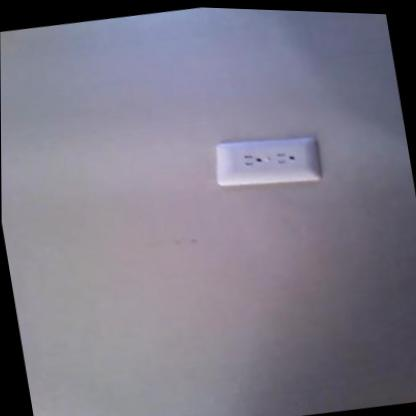OUTLET: (212, 130, 319, 191)
